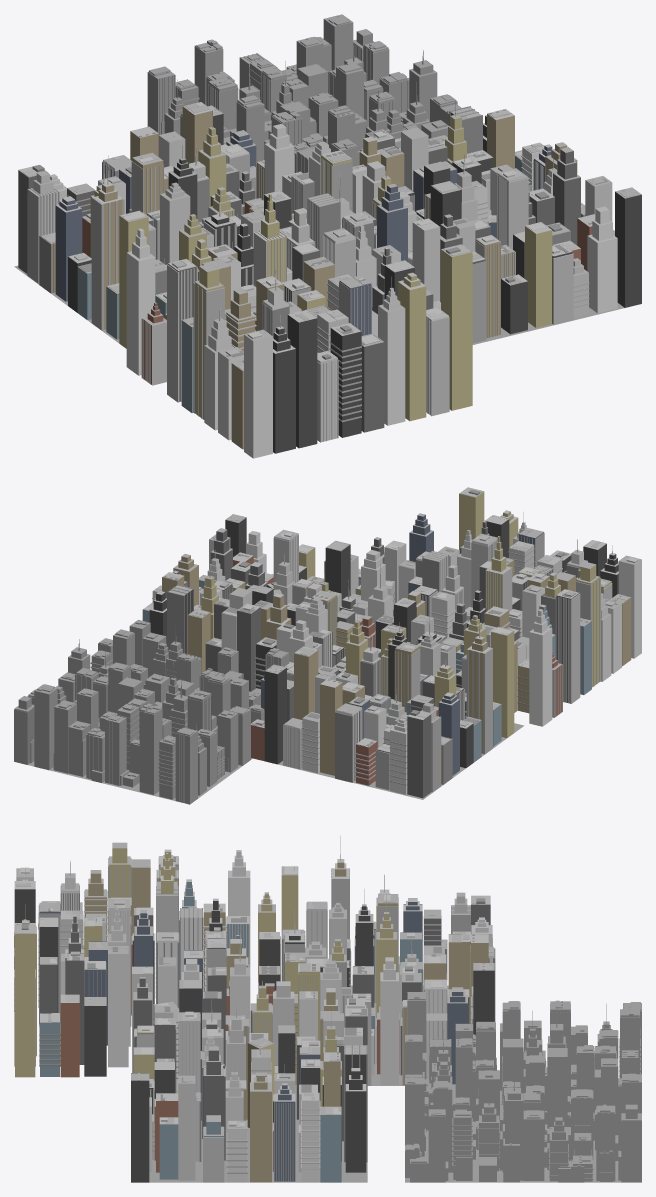
The model's file is city.fbx.
3 renders of one model, top to bottom at view 1: azimuth 30°, elevation 25°; view 2: azimuth 150°, elevation 25°; view 3: azimuth 270°, elevation 25°, orthographic. The views are drawn at different scales.
Visible parts, largest first — view 1: grp4_building_geo10, grp4_building_geo1, grp3_building_geo27, grp4_building_geo8, grp4_building_geo3, grp4_building_geo85, grp4_building_geo7, grp2_building_geo10, grp4_building_geo5, grp4_building_geo40, grp4_building_geo58, grp2_building_geo9 (+82 smaller); view 2: grp4_building_geo58, grp4_building_geo85, grp3_building_geo27, grp3_building_geo8, grp3_building_geo83, grp3_building_geo91, grp1_building_geo91, grp3_building_geo87, grp1_building_geo96, grp4_building_geo40, grp1_building_geo89, grp3_building_geo88 (+97 smaller); view 3: grp4_building_geo10, grp4_building_geo48, grp2_building_geo56, grp3_building_geo54, grp2_building_geo94, grp2_building_geo10, grp2_building_geo65, grp2_building_geo28, grp4_building_geo39, grp2_building_geo75, qTown_basePlane_geo2, grp2_building_geo85 (+107 smaller).
Part boxes in pixels (x1,y1,x2,y2): grp4_building_geo10: (441, 244, 472, 410); grp4_building_geo1: (244, 329, 272, 458); grp3_building_geo27: (91, 155, 124, 330); grp4_building_geo8: (398, 272, 426, 421); grp4_building_geo3: (287, 310, 317, 448); grp4_building_geo85: (126, 228, 155, 375); grp4_building_geo7: (378, 277, 405, 425); grp2_building_geo10: (615, 187, 641, 307); grp4_building_geo5: (330, 323, 361, 437); grp4_building_geo40: (193, 263, 224, 419); grp4_building_geo58: (167, 258, 197, 402); grp2_building_geo9: (587, 206, 617, 313); grp4_building_geo58: (555, 589, 580, 703); grp4_building_geo85: (529, 609, 552, 726); grp3_building_geo27: (466, 614, 492, 754); grp3_building_geo8: (491, 626, 514, 737); grp3_building_geo83: (407, 710, 431, 797); grp3_building_geo91: (264, 664, 286, 764); grp1_building_geo91: (139, 703, 162, 794); grp3_building_geo87: (335, 703, 362, 782); grp1_building_geo96: (34, 684, 57, 770); grp4_building_geo40: (576, 562, 600, 687); grp1_building_geo89: (175, 727, 197, 804); grp3_building_geo88: (320, 678, 342, 775); grp4_building_geo10: (15, 923, 35, 1077); grp4_building_geo48: (108, 946, 128, 1067); grp2_building_geo56: (250, 1072, 271, 1182); grp3_building_geo54: (380, 957, 398, 1085); grp2_building_geo94: (345, 1068, 366, 1172); grp2_building_geo10: (131, 1073, 149, 1182); grp2_building_geo65: (274, 1083, 295, 1181); grp2_building_geo28: (178, 1075, 195, 1180); grp4_building_geo39: (84, 997, 106, 1076); grp2_building_geo75: (301, 1092, 320, 1182); qTown_basePlane_geo2: (149, 1086, 367, 1182); grp2_building_geo85: (320, 1106, 341, 1182).
Bounding box in the file's own units: 103 × 39.35 × 133.
